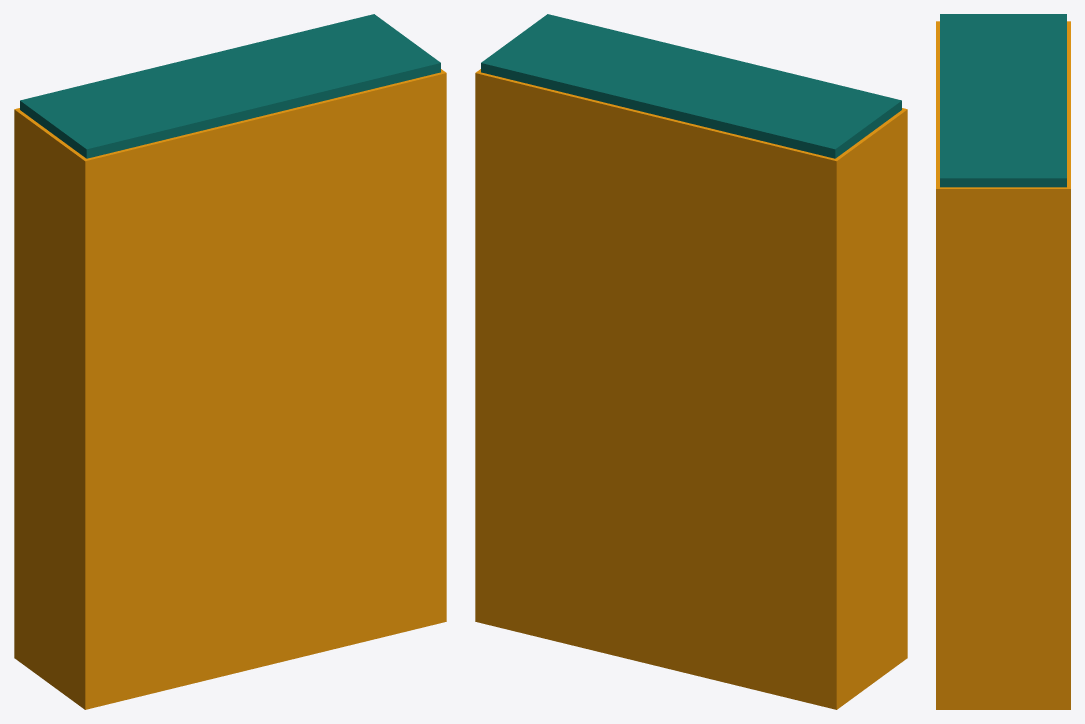
File: cereal-box.glb
3 renders of one model, left to right at view 1: azimuth 30°, elevation 25°; view 2: azimuth 150°, elevation 25°; view 3: azimuth 270°, elevation 25°, orthographic. The views are drawn at different scales.
Visible parts, largest first — view 1: Cereal_Carton, Cereal_Top_Flap; view 2: Cereal_Carton, Cereal_Top_Flap; view 3: Cereal_Carton, Cereal_Top_Flap.
Boxes of the visible parts, left/top/right/bottom form: Cereal_Carton: left=14, top=69, right=446, bottom=709; Cereal_Top_Flap: left=20, top=14, right=440, bottom=158; Cereal_Carton: left=475, top=69, right=907, bottom=709; Cereal_Top_Flap: left=481, top=14, right=901, bottom=158; Cereal_Carton: left=936, top=21, right=1070, bottom=709; Cereal_Top_Flap: left=940, top=14, right=1066, bottom=187.
Size of the model in its own units: 0.2 by 0.295 by 0.068.
